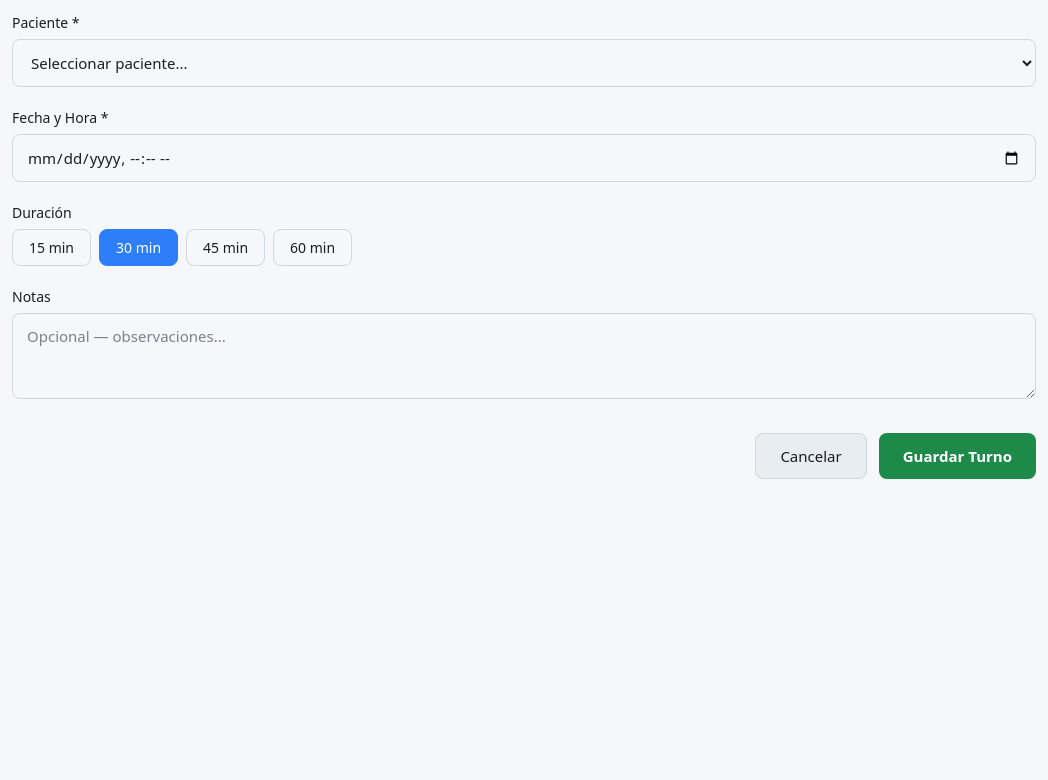
it: TurnoForm › shows validation error when paciente is not selected
Set fecha_hora but no paciente
Type "2026-07-29T10:00" into the field labelled "Fecha y Hora *".
click(524, 158); type("2026-07-29T10:00")  # box [12,134,1036,182]
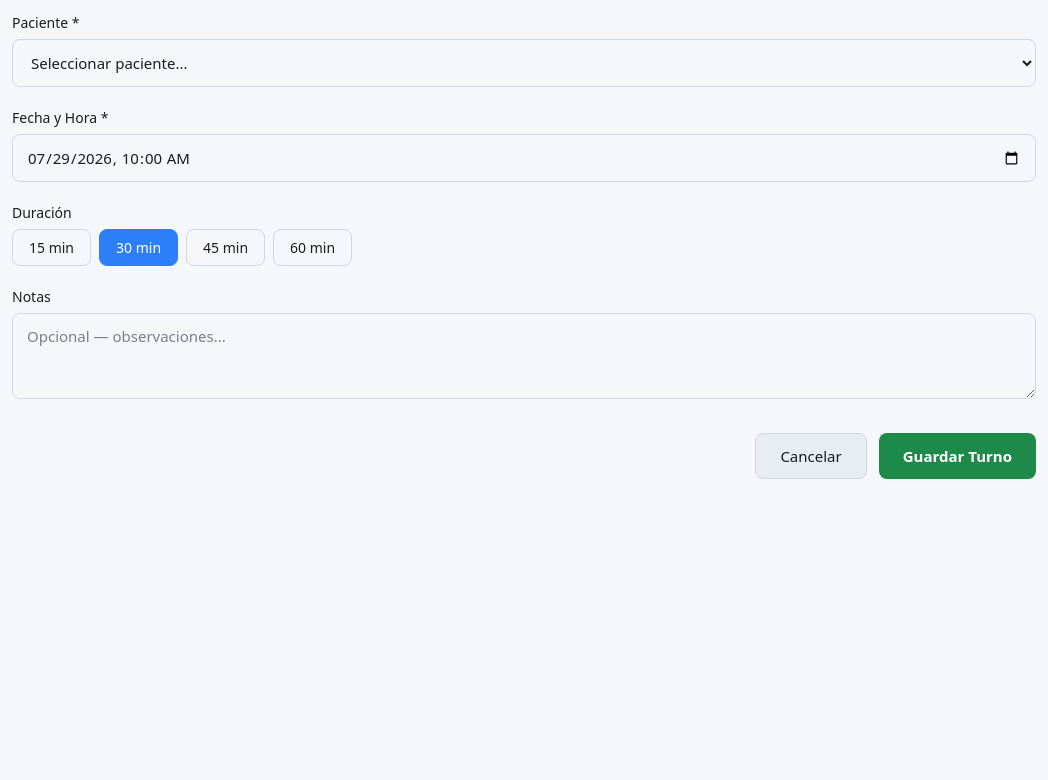
Click the button "Guardar Turno".
click(957, 456)  # box [879,433,1036,479]
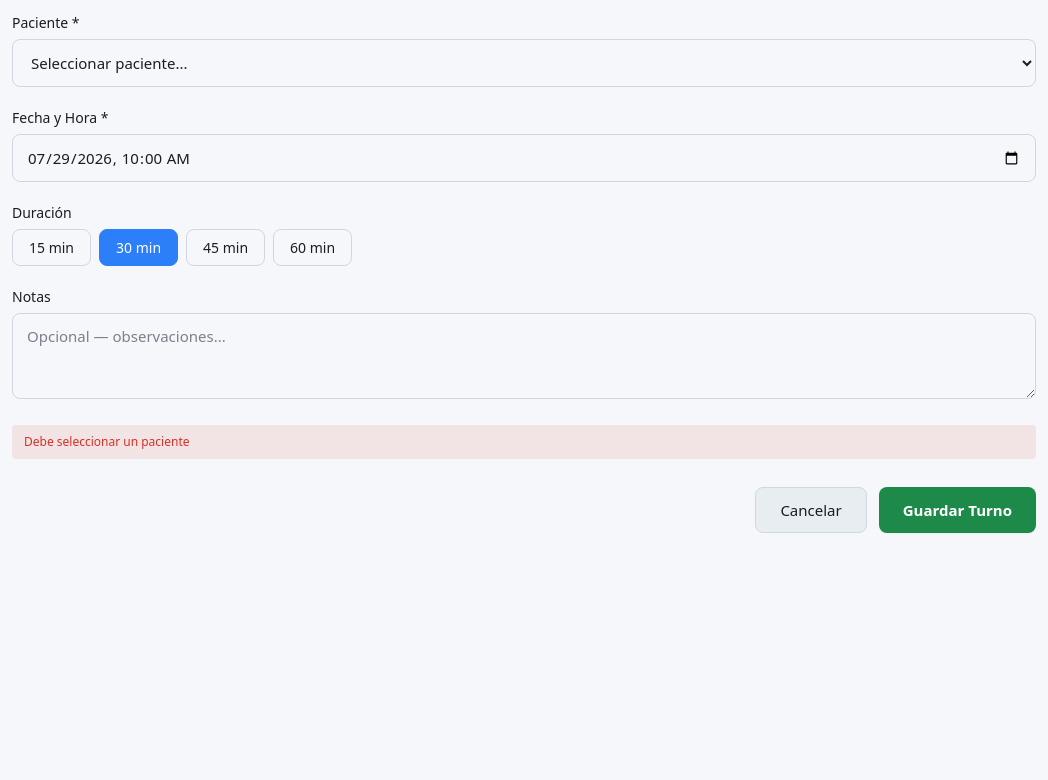
Expected: the text "Debe seleccionar un paciente" is shown, [12,425,1036,459]
